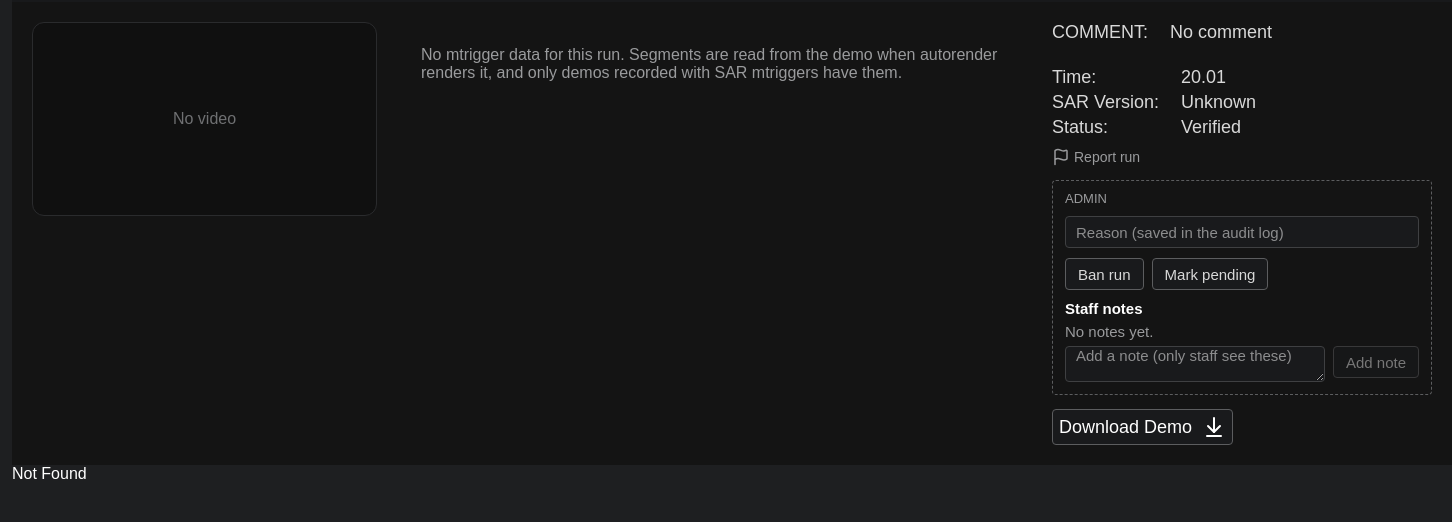
staff actions › leaves the reason out when there is none, and shows the server’s error
The width and height of the screenshot is (1452, 522).
Click the button "Mark pending": (1210,274) [1152,258,1268,290]
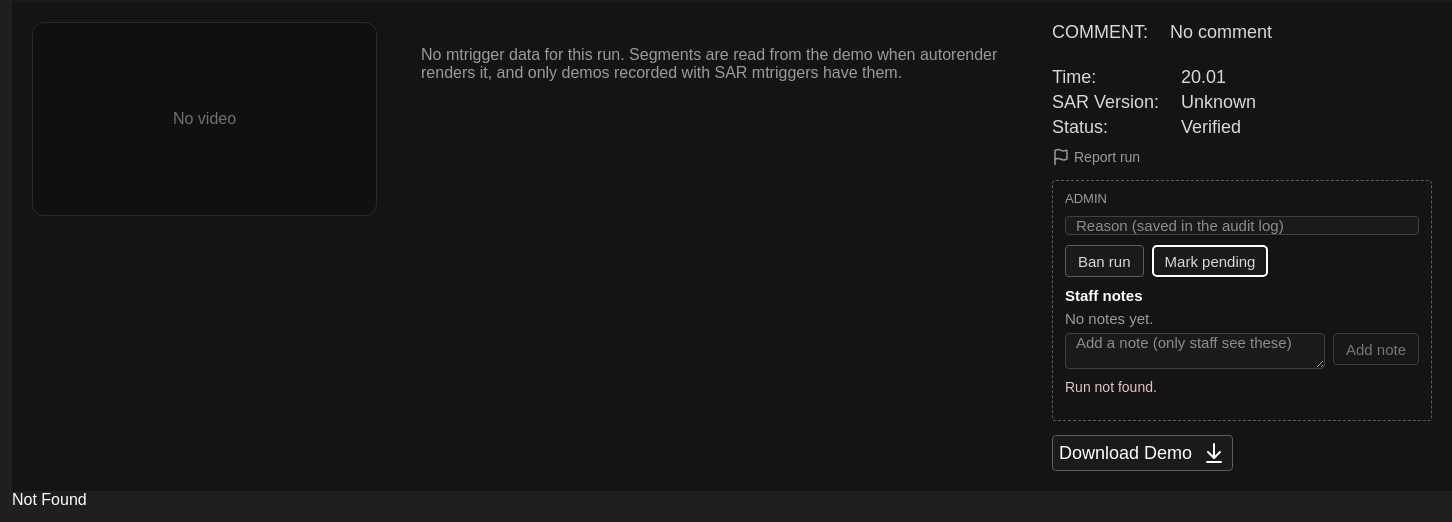
Now the text "Run not found." is shown, box [1065,379,1157,395]
